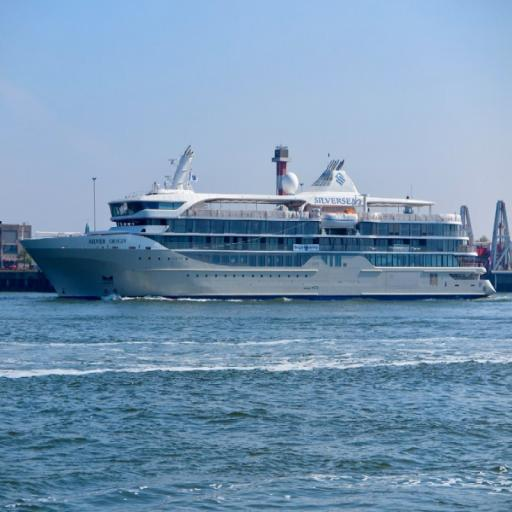cruises: (18, 148, 499, 304)
